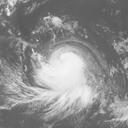cyclone: (39, 51, 94, 105)
